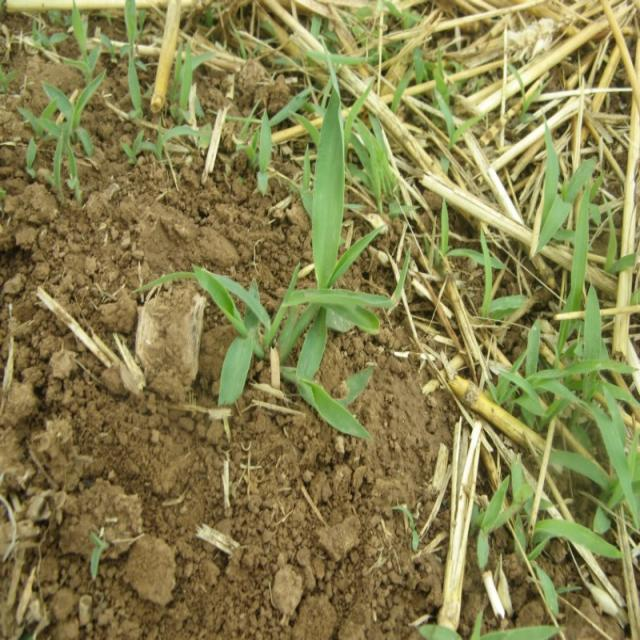bg: (194, 82, 389, 444)
